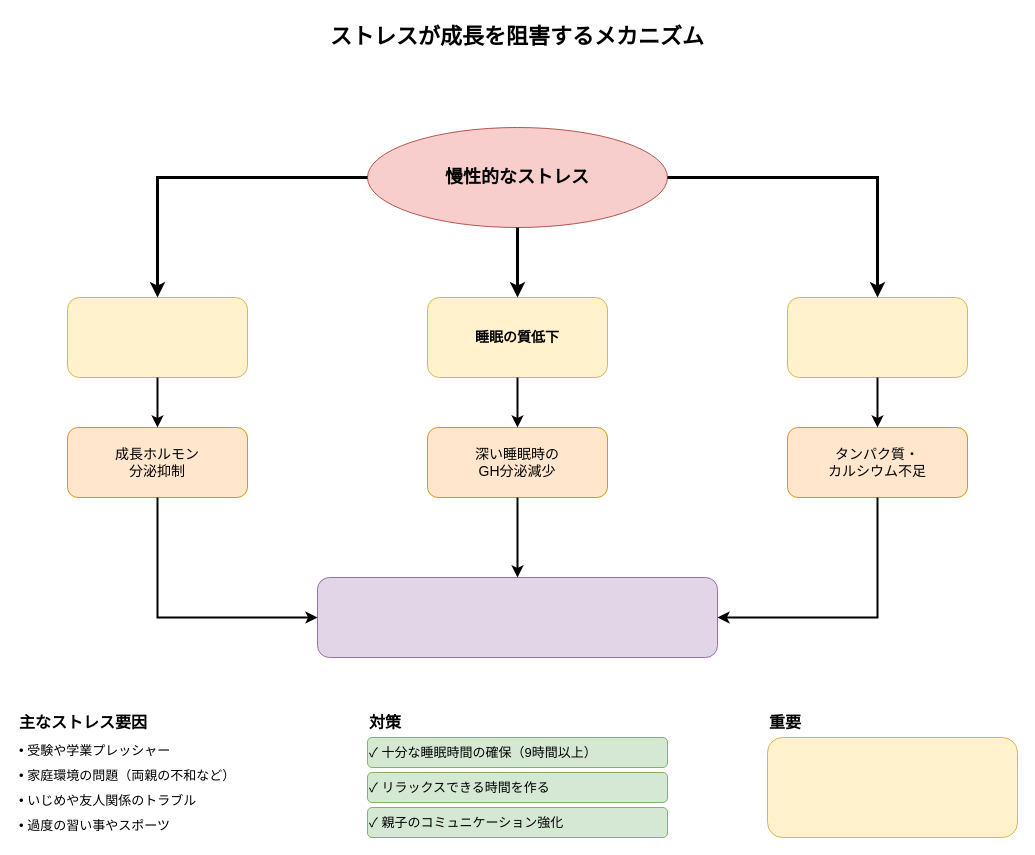
The diagram is 1035 pixels wide and 855 high, and some of its shapes have lost their labels. Here are the shapes that lost their labels. From the top down, the box of each, then its label:
(66, 296, 248, 378): コルチゾール （ストレスホルモン） 増加
(786, 296, 968, 378): 食欲低下 栄養不足
(316, 576, 718, 658): 成長速度の低下 最終身長の減少
(766, 736, 1018, 838): 慢性的なストレスは、 年間成長率を 2～3cm低下させる 可能性があります
